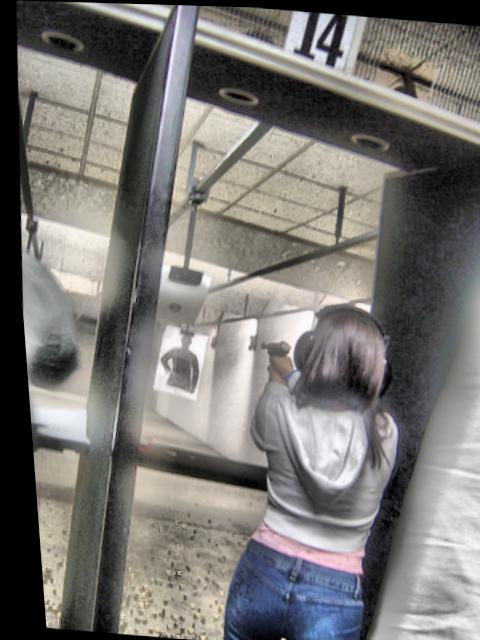pistol: (253, 335, 284, 358)
